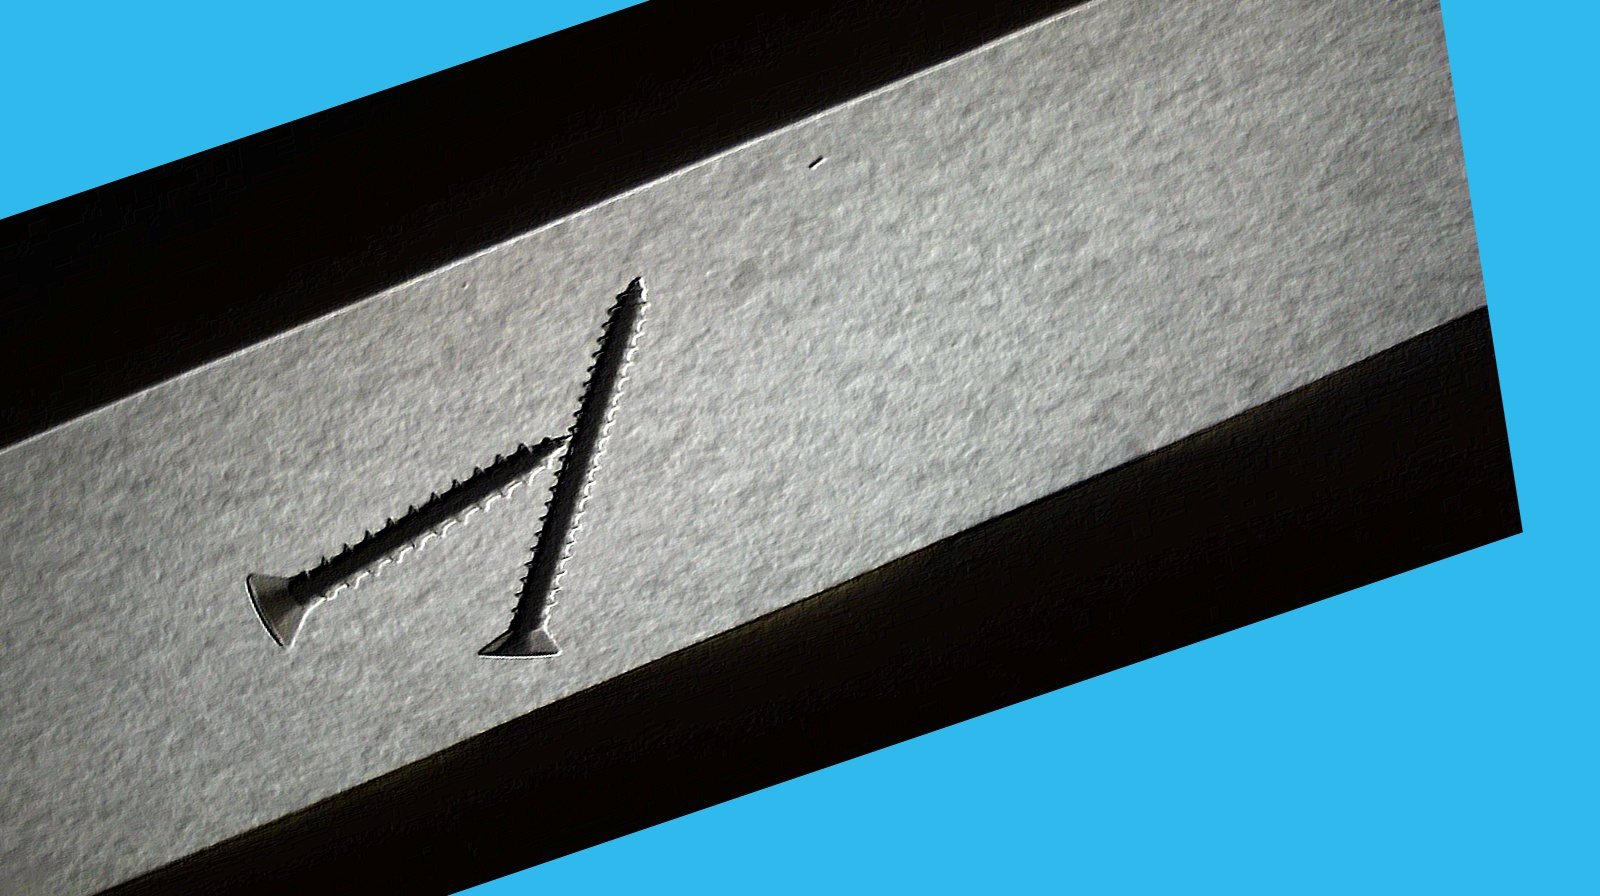S001: (227, 418, 604, 667)
S002: (413, 256, 710, 692)
